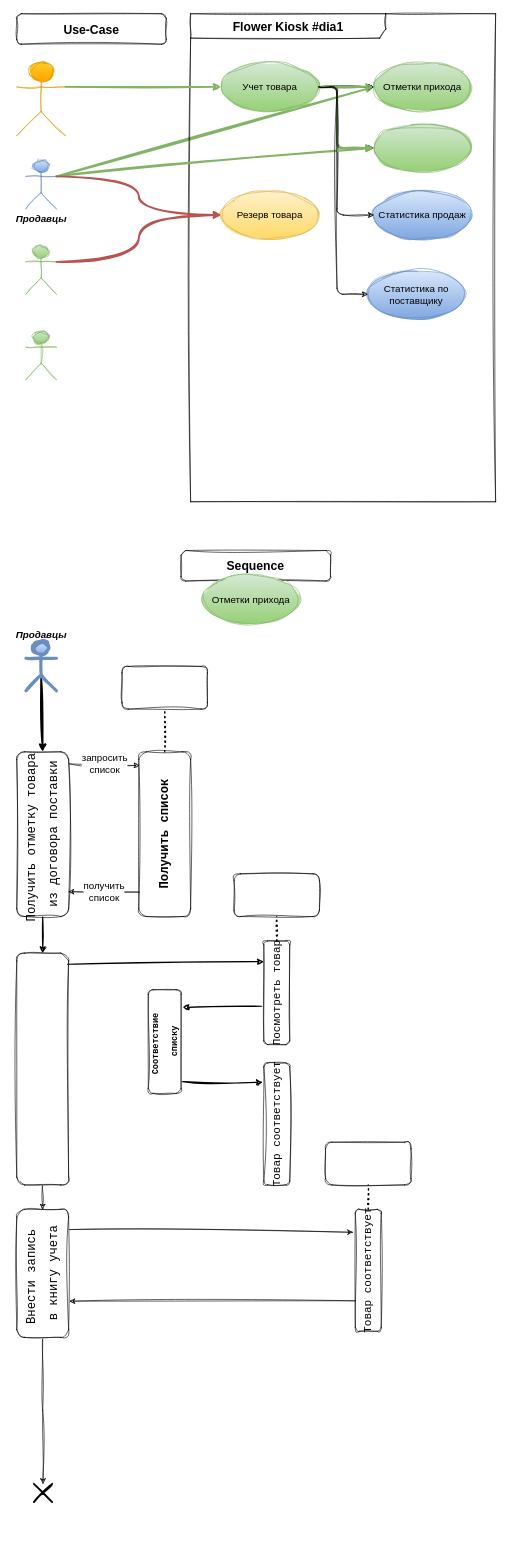
This 506x1546 diagram has some shape labels left out. The shapes that lost their labels are listed below. From the top down, each one's centre as x and y in pixels, then its label:
pixel 41 99: Владелец
pixel 422 147: Отметки продаж
pixel 40 269: Покупатель
pixel 40 355: Поставщик
pixel 164 687: Договор поставки
pixel 276 895: Поставленный товар
pixel 42 1069: Принять товар
pixel 368 1163: Книга учета
pixel 43 1493: конец действия
